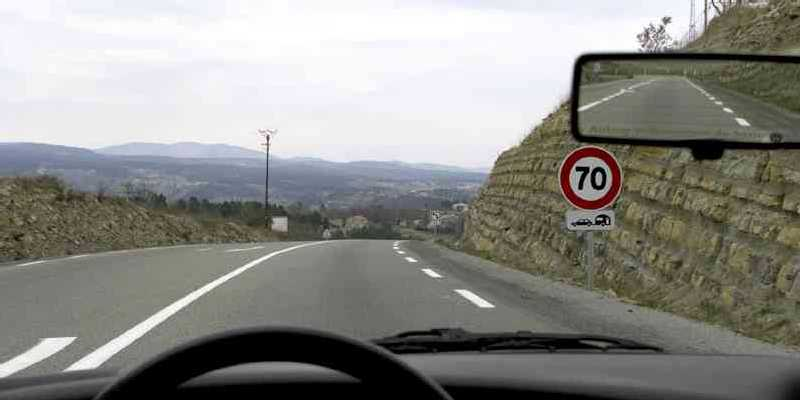Speed_limit_70km: (557, 144, 623, 211)
